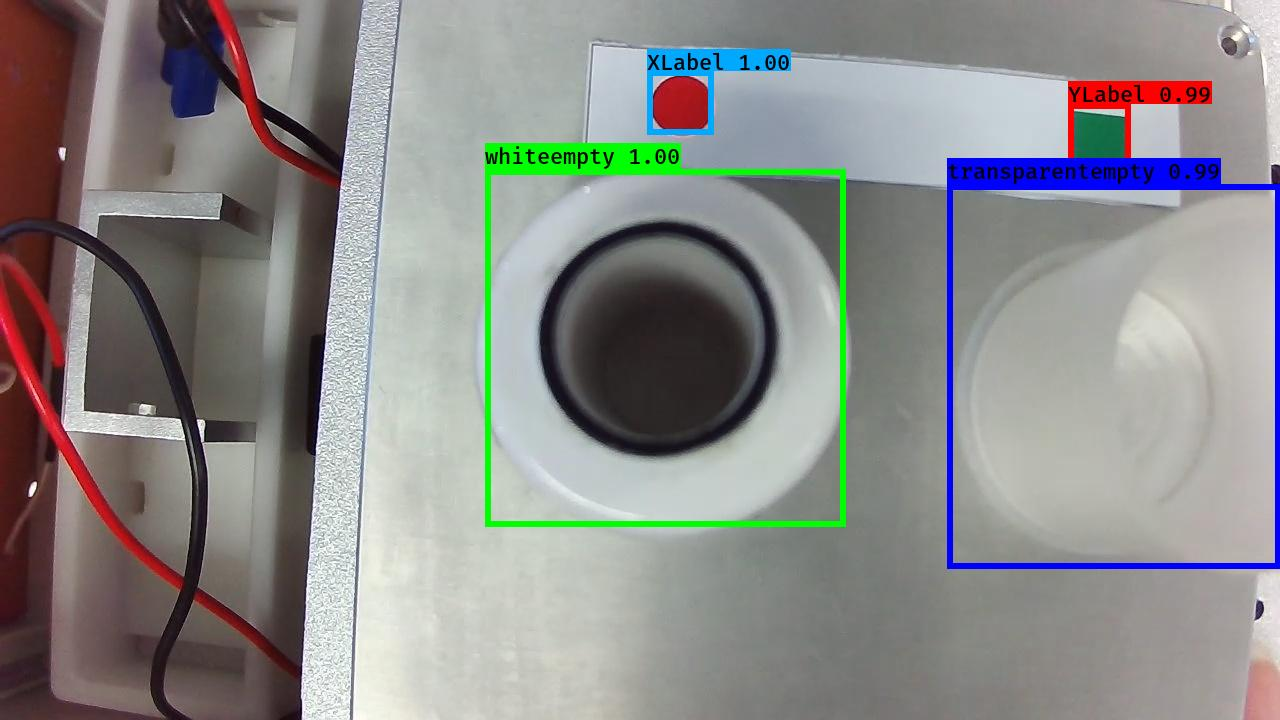XLabel: (649, 70, 718, 139)
YLabel: (1065, 106, 1136, 179)
transparentempty: (949, 195, 1280, 584)
whiteempty: (468, 168, 857, 540)
